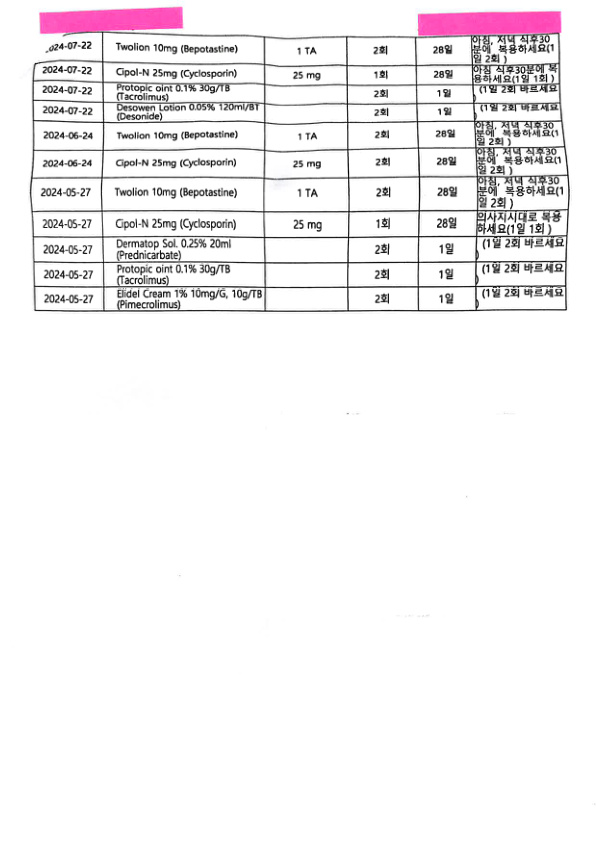row: (29, 177, 566, 212), (34, 31, 557, 65), (29, 148, 564, 177), (29, 211, 566, 238), (29, 121, 562, 148), (32, 261, 564, 288), (32, 286, 566, 312), (29, 61, 560, 87), (30, 238, 565, 262), (27, 81, 561, 105), (27, 100, 560, 122)
